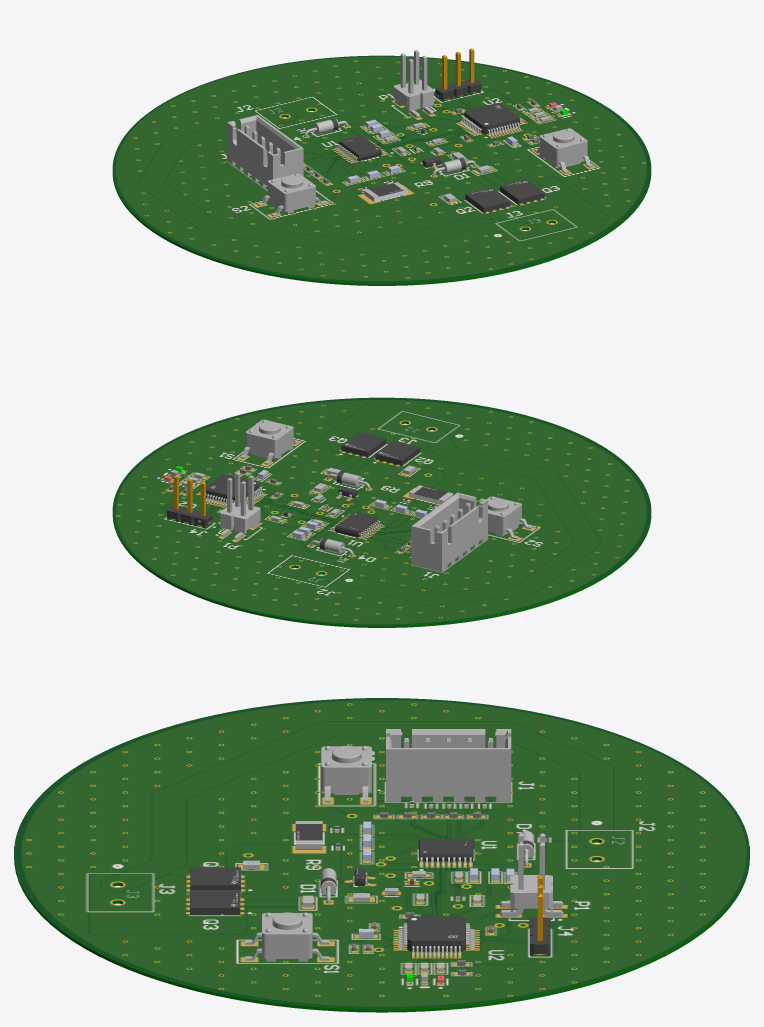
Rendered from bms.glb.
3 renders of one model, top to bottom at view 1: azimuth 30°, elevation 25°; view 2: azimuth 150°, elevation 25°; view 3: azimuth 270°, elevation 25°, orthographic. The views are drawn at different scales.
Parts seen in each view (by area): view 1: art_top, bms; view 2: art_top, bms; view 3: art_top, bms.
Boxes of the visible parts, x1,y1,x2,y2 form: art_top: (112, 55, 651, 283); bms: (112, 48, 651, 285); art_top: (112, 397, 651, 625); bms: (112, 402, 651, 627); art_top: (14, 698, 749, 1008); bms: (14, 703, 749, 1012).
Bounding box in the file's own units: 87.4 × 13.62 × 87.41.
Materials: 16 (2 with a texture image).
